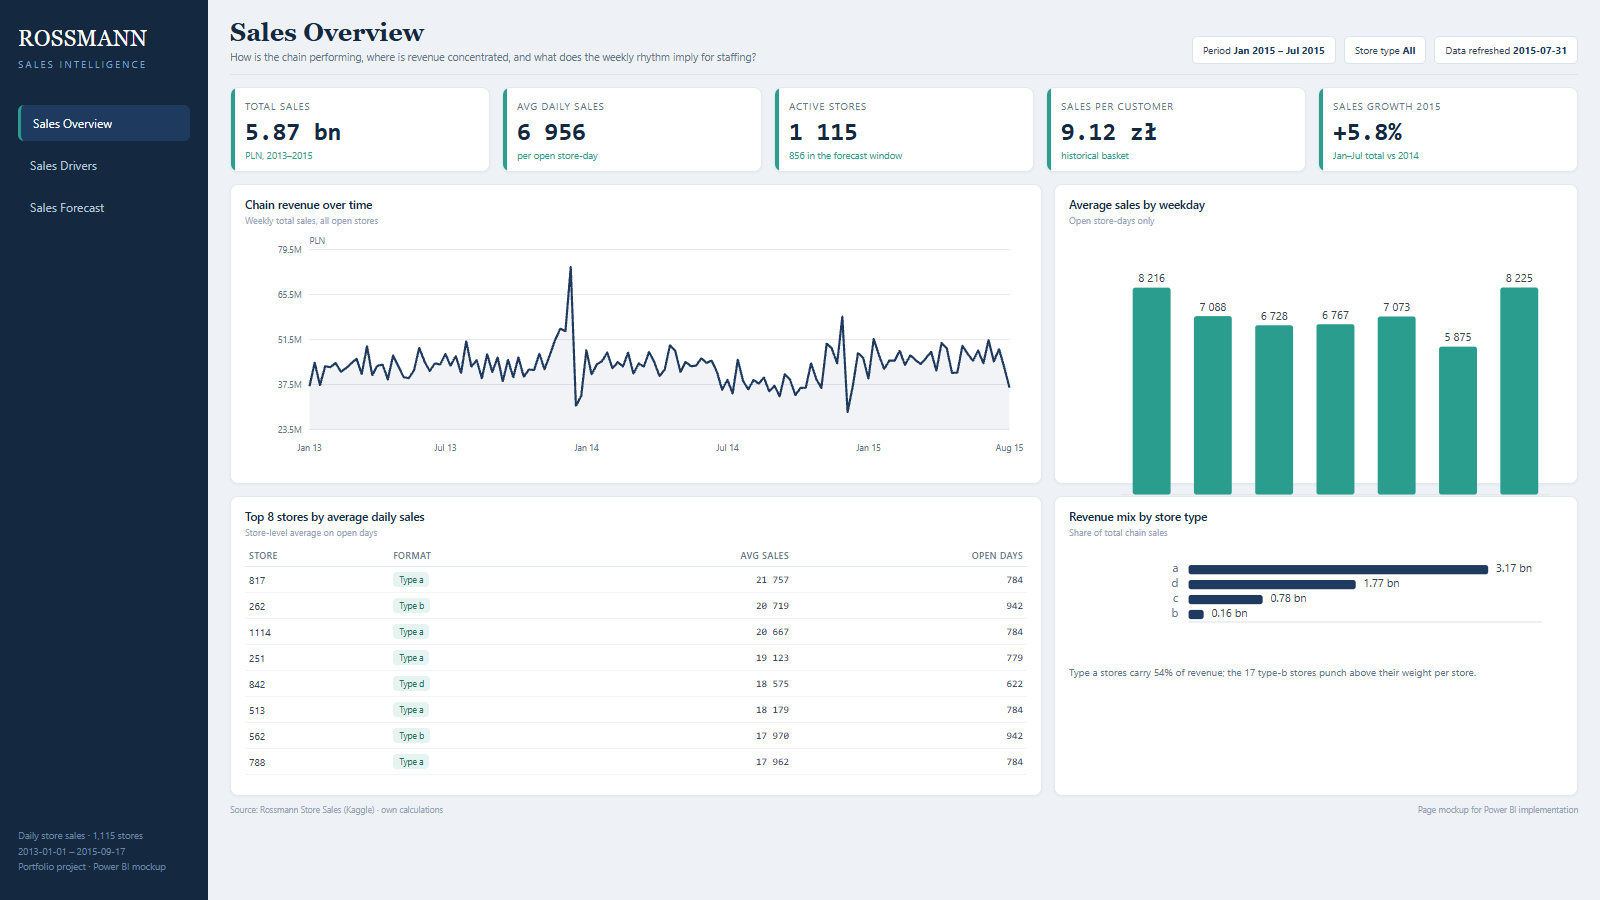

The page's visual inventory and layout, read from the dashboard file:
{"tool":"powerbi","page":{"name":"Przegląd","canvas":[1920,1080],"ordinal":0},"visuals":[{"type":"textbox","box":[64,48,1100,104],"z":0},{"type":"textbox","box":[1400,48,456,80],"z":1000},{"type":"shape","box":[64.4,171.8,1791.2,12.3],"z":2000},{"type":"cardVisual","fields":{"Data":["_Miary.Sprzedaż (mld zł)"]},"box":[64,192,430,140],"z":3000},{"type":"cardVisual","fields":{"Data":["_Miary.Średnia dzienna na sklep"]},"box":[518,192.6,430,140],"z":4000},{"type":"cardVisual","fields":{"Data":["_Miary.Liczba sklepów"]},"box":[972,192.6,430,140],"z":5000},{"type":"textbox","box":[64,1042,1792,24],"z":6000},{"type":"cardVisual","fields":{"Data":["_Miary.Sprzedaż na klienta"]},"box":[1426,192.6,430,140],"z":7000},{"type":"columnChart","title":"Rytm tygodnia","fields":{"Category":["Fakt_DzienTygodnia.DayName"],"Y":["Avg(Fakt_DzienTygodnia.AvgSales)"]},"box":[64.2,352,1180,458],"z":8000},{"type":"textbox","box":[1272,352,584,458],"z":9000},{"type":"tableEx","title":"Top sklepy","fields":{"Values":["Fakt_Sklepy.Store","Fakt_Sklepy.StoreType","Fakt_Sklepy.TotalSales"]},"box":[64,828,1792,210],"z":10000}]}

Visuals, with their boxes on the page's 1920x1080 design canvas (x1, y1, x2, y2). These are canvas units, not pixel positions in the 1600x900 screenshot, which may show the page scaled, cropped or inside an application window:
textbox: box=[64, 48, 1164, 152]
textbox: box=[1400, 48, 1856, 128]
shape: box=[64, 172, 1856, 184]
cardVisual - _Miary.Sprzedaż (mld zł): box=[64, 192, 494, 332]
cardVisual - _Miary.Średnia dzienna na sklep: box=[518, 193, 948, 333]
cardVisual - _Miary.Liczba sklepów: box=[972, 193, 1402, 333]
textbox: box=[64, 1042, 1856, 1066]
cardVisual - _Miary.Sprzedaż na klienta: box=[1426, 193, 1856, 333]
"Rytm tygodnia" columnChart: box=[64, 352, 1244, 810]
textbox: box=[1272, 352, 1856, 810]
"Top sklepy" tableEx: box=[64, 828, 1856, 1038]
